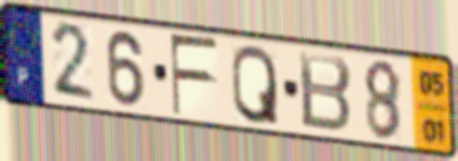2: (49, 19, 96, 108)
6: (104, 28, 147, 111)
8: (362, 57, 405, 143)
B: (296, 48, 354, 135)
F: (167, 32, 221, 119)
Q: (230, 42, 281, 127)
